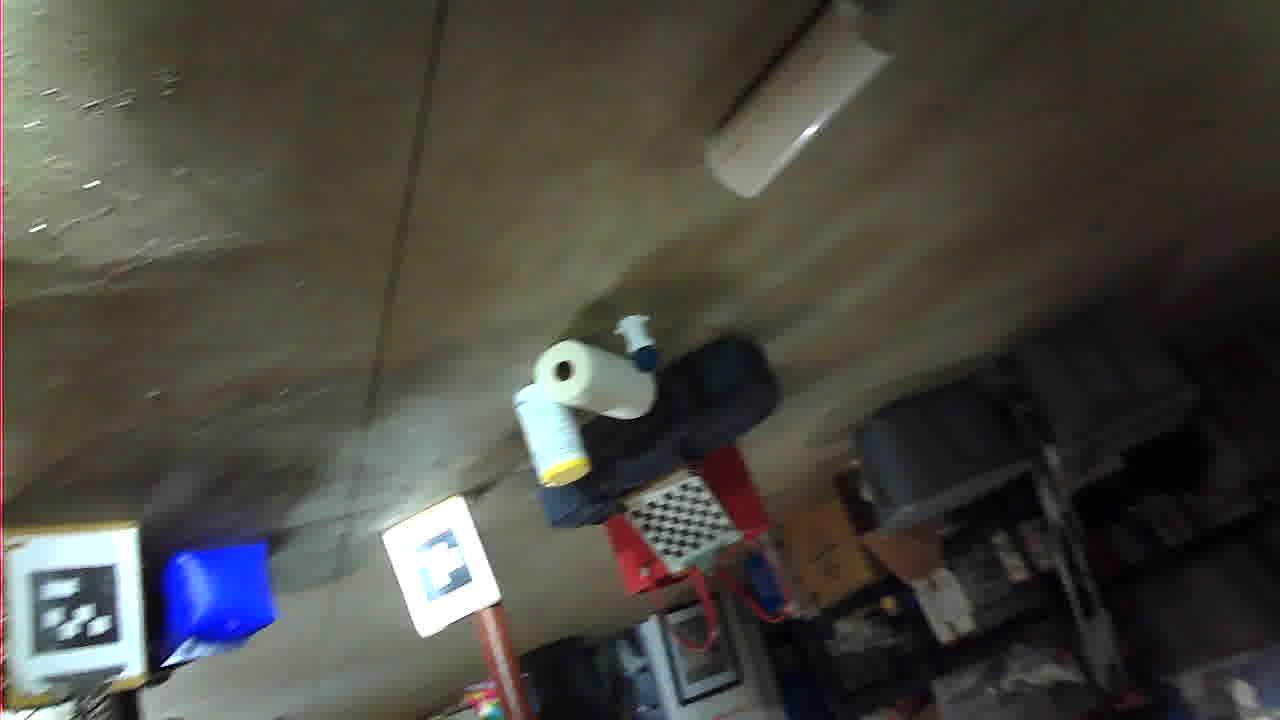coral: (389, 519, 573, 717)
